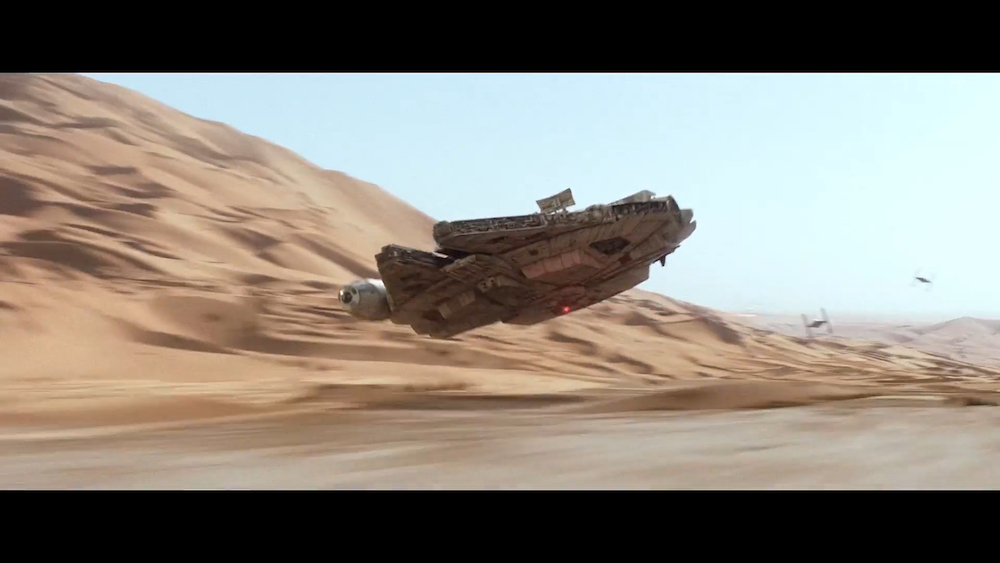Millennium Falcon: (338, 187, 699, 342)
Tie Fighter: (799, 308, 835, 342), (908, 267, 940, 294)
